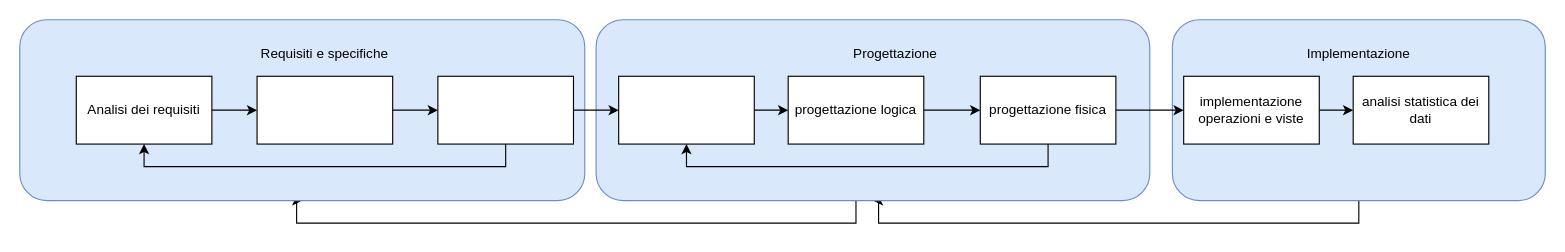
Image size: 1565x252. Some labels were removed from this diagram. Each missing label, with the centre of its shape:
"progettazione concettuale" belongs at (686,109).
"specificazione" belongs at (324,109).
"validazione" belongs at (505,109).
